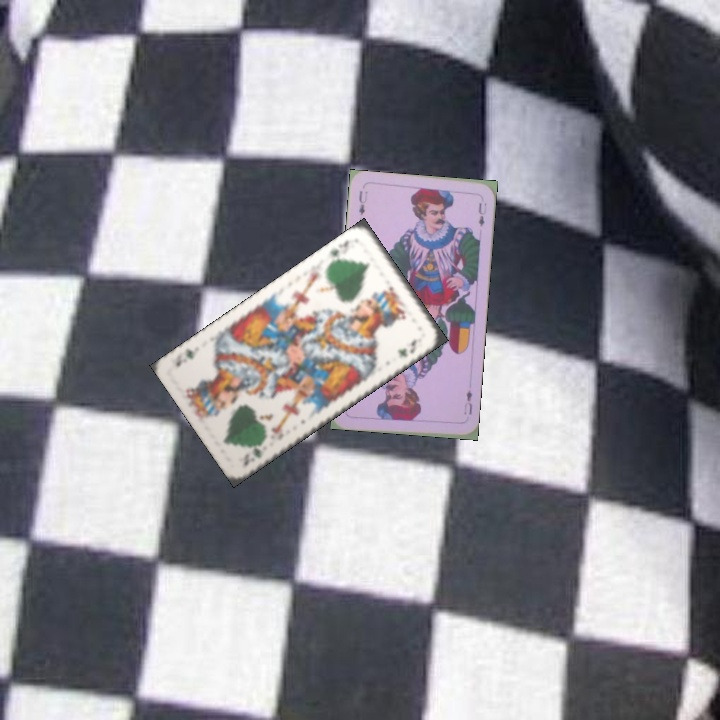EU: (355, 186, 370, 218), (460, 386, 475, 417)
GK: (323, 235, 356, 266), (239, 437, 268, 468)
